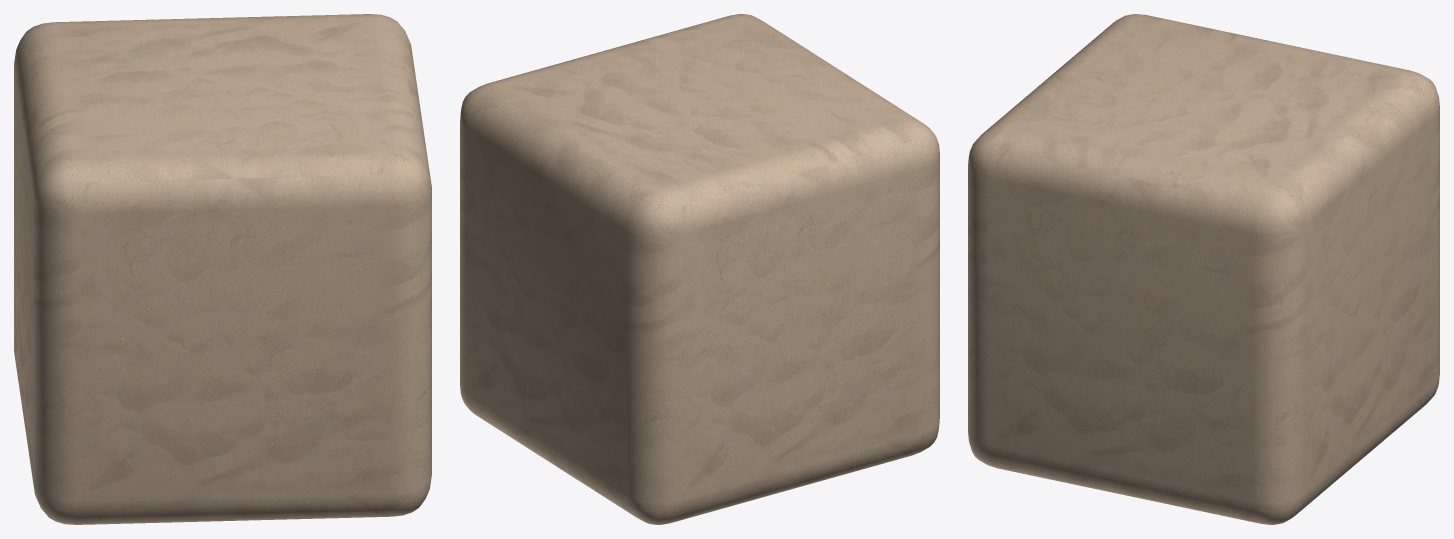
Rendered from Unity2Skfb.gltf.
3 renders of one model, left to right at view 1: azimuth 30°, elevation 25°; view 2: azimuth 150°, elevation 25°; view 3: azimuth 270°, elevation 25°, orthographic. The views are drawn at different scales.
Parts seen in each view (by area): view 1: node_Rounded cube - Sand_-97426; view 2: node_Rounded cube - Sand_-97426; view 3: node_Rounded cube - Sand_-97426.
Boxes of the visible parts, <box> form: node_Rounded cube - Sand_-97426: <box>14,14,431,524</box>; node_Rounded cube - Sand_-97426: <box>460,14,939,524</box>; node_Rounded cube - Sand_-97426: <box>968,14,1439,524</box>.
Bounding box in the file's own units: 1.15 × 0.908 × 1.15.
Materials: 1 (1 with a texture image).
